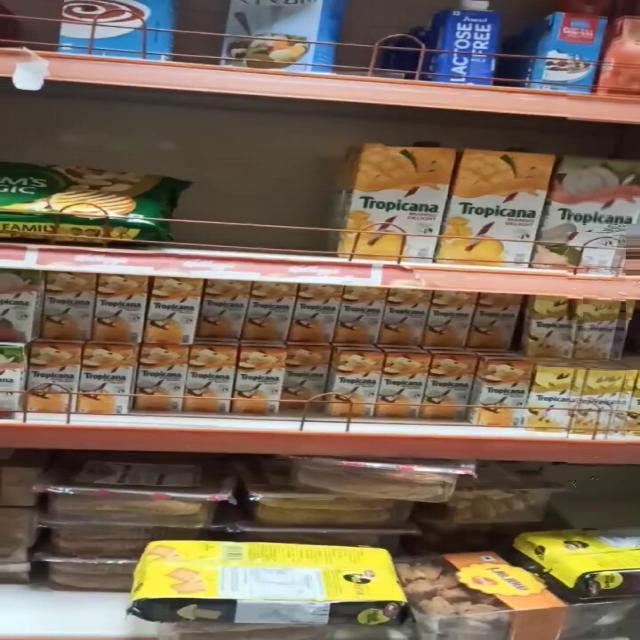Tropicana: (344, 127, 451, 260), (456, 137, 554, 267), (548, 150, 640, 272), (73, 342, 134, 414), (34, 266, 92, 338), (22, 347, 79, 412), (529, 292, 585, 358), (379, 354, 436, 418), (534, 362, 588, 428), (94, 274, 146, 342), (132, 350, 190, 410), (331, 350, 382, 418), (146, 278, 197, 345), (482, 358, 530, 428), (196, 278, 247, 342), (242, 280, 294, 342), (237, 345, 284, 413), (182, 350, 233, 410), (427, 356, 474, 419), (431, 287, 477, 350), (338, 286, 386, 344), (476, 295, 524, 352), (282, 346, 326, 407), (383, 289, 428, 347), (298, 283, 340, 343)
